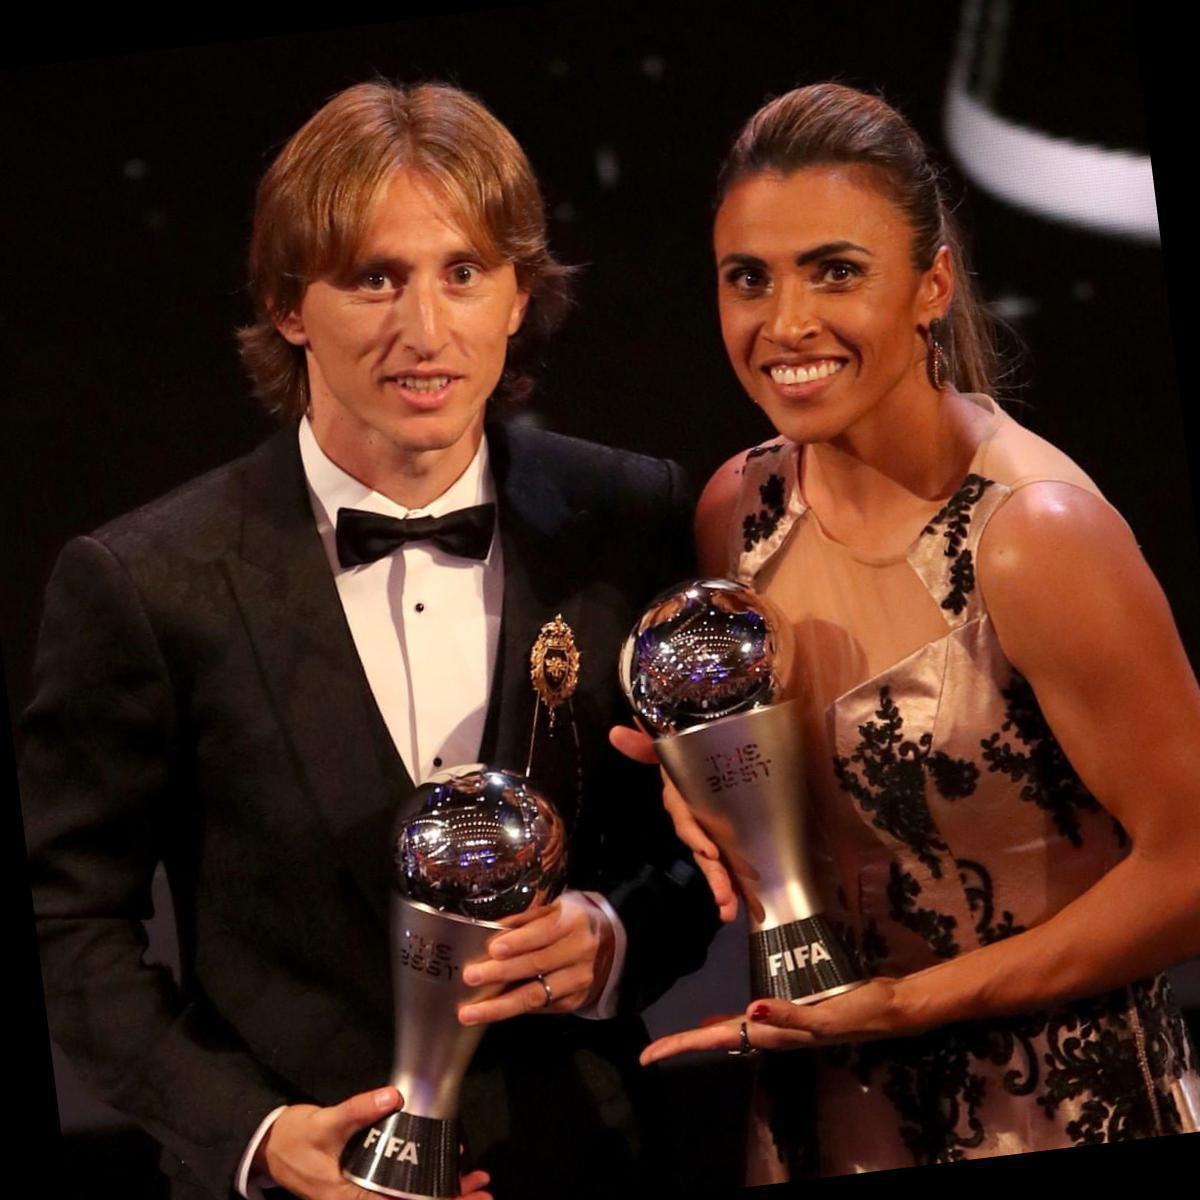Sober: (305, 158, 513, 427), (716, 178, 911, 422)
